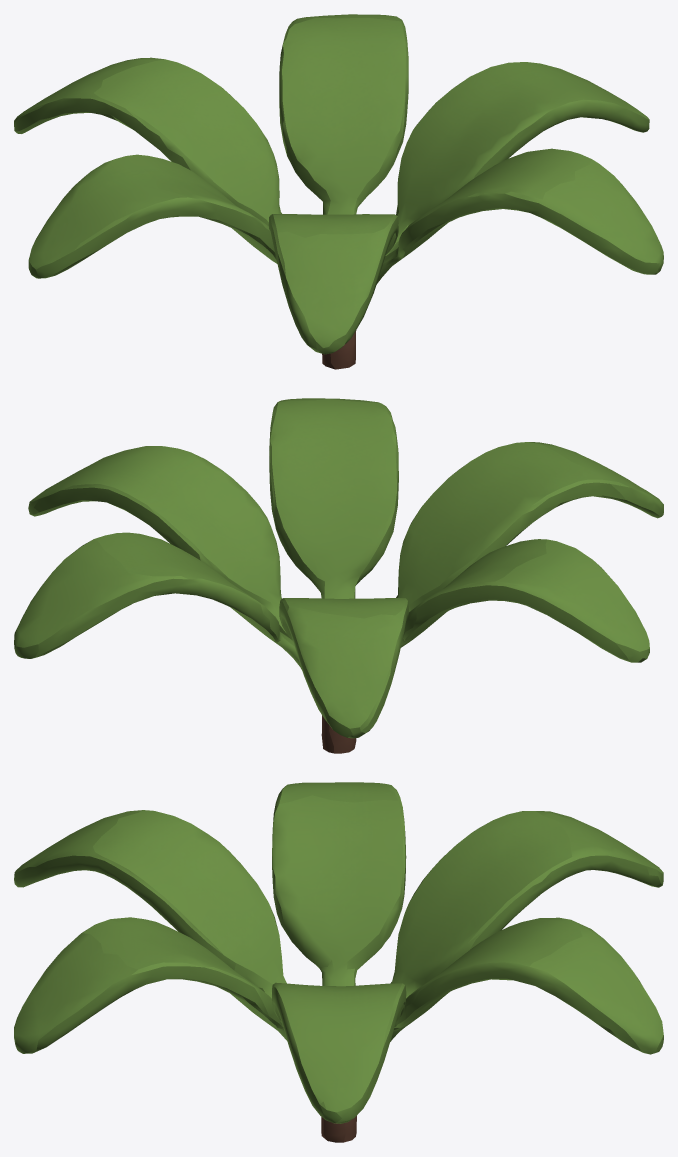
File: ENV_09_FERN.glb
The picture shows the model from 3 angles, top to bottom: view 1: azimuth 30°, elevation 25°; view 2: azimuth 150°, elevation 25°; view 3: azimuth 270°, elevation 25°; orthographic projection. The views are drawn at different scales.
Parts seen in each view (by area): view 1: world; view 2: world; view 3: world.
Part boxes in pixels (box(x1,y1,x2,y2)): world: box(14, 14, 663, 369); world: box(14, 398, 663, 753); world: box(14, 782, 663, 1142).
Bounding box in the file's own units: 1 × 0.3717 × 0.8786.
1 material, 1 textured.
